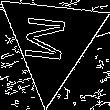M_E: (26, 15, 77, 67)
